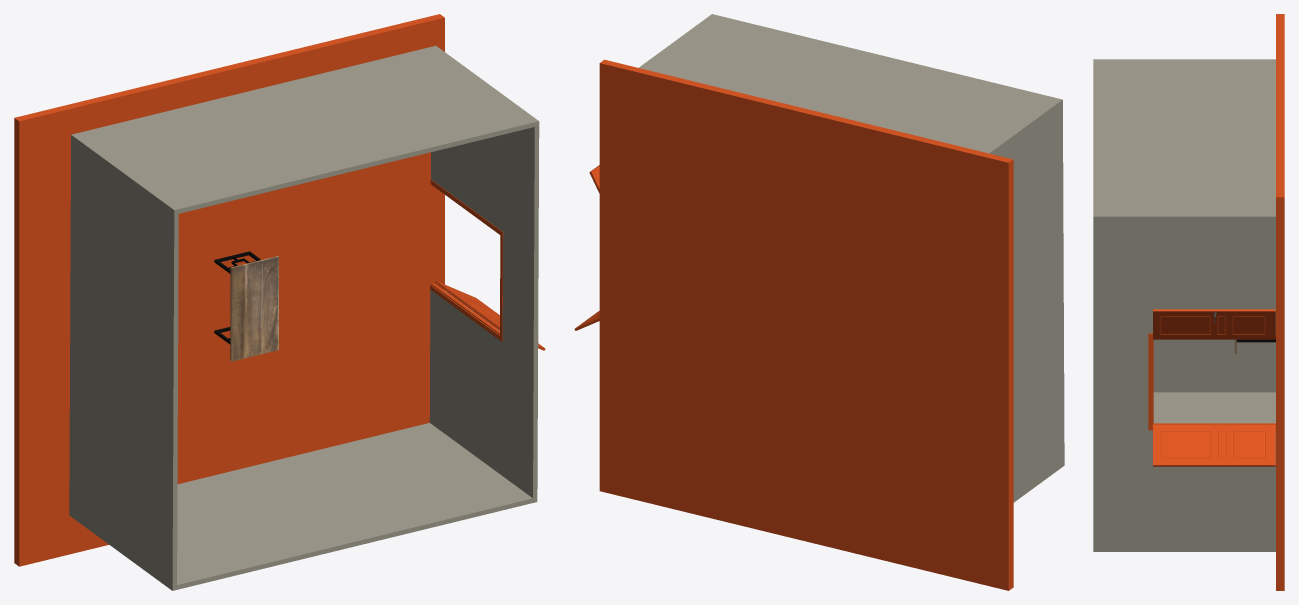
Rendered from room.obj.
3 views of the same model, side by side, from view 1: azimuth 30°, elevation 25°; view 2: azimuth 150°, elevation 25°; view 3: azimuth 270°, elevation 25° (orthographic). The views are drawn at different scales.
Parts seen in each view (by area): view 1: Object_1, Cube, Object_0.001, Object_4, Object_7; view 2: Cube, Object_1; view 3: Object_1, Object_7, Cube, Object_4.
Part boxes in pixels (bbox=[...]): Object_1: bbox=[69, 45, 539, 590]; Cube: bbox=[14, 14, 444, 566]; Object_0.001: bbox=[230, 256, 278, 361]; Object_4: bbox=[430, 179, 503, 341]; Object_7: bbox=[435, 281, 545, 350]; Cube: bbox=[599, 59, 1013, 590]; Object_1: bbox=[639, 14, 1064, 502]; Object_1: bbox=[1093, 59, 1275, 551]; Object_7: bbox=[1153, 309, 1275, 466]; Cube: bbox=[1276, 14, 1284, 590]; Object_4: bbox=[1148, 333, 1275, 430].
Size of the model in its own units: 5.37 by 5 by 2.2.
6 materials, 1 textured.
